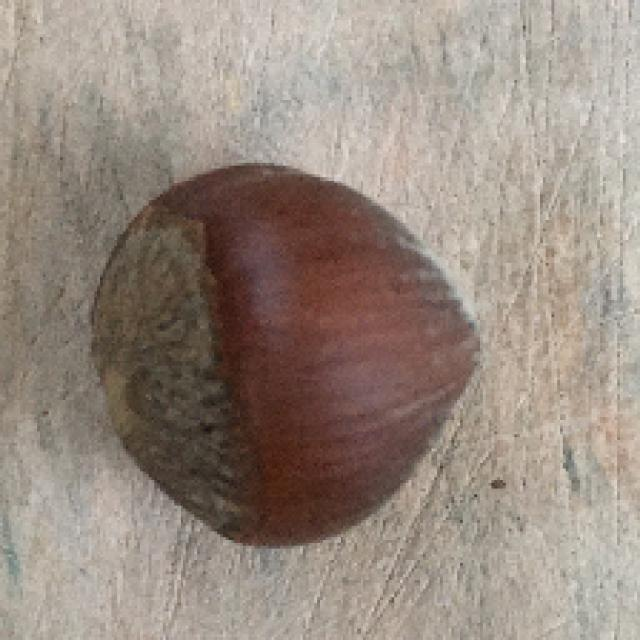DamagedHazelnut: (89, 158, 486, 542)
